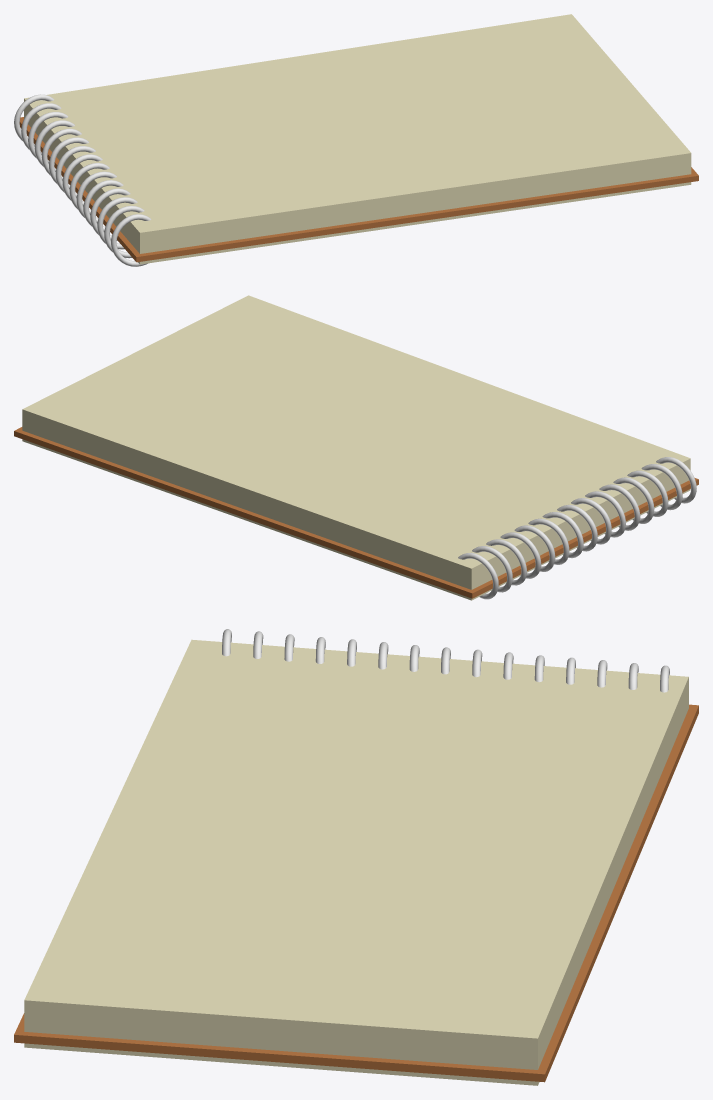
Rendered from DrawingPad.glb.
3 renders of one model, top to bottom at view 1: azimuth 30°, elevation 25°; view 2: azimuth 150°, elevation 25°; view 3: azimuth 270°, elevation 25°, orthographic. The views are drawn at different scales.
Parts seen in each view (by area): view 1: DrawingPage, DrawingSpring, DrawingCover; view 2: DrawingPage, DrawingSpring, DrawingCover; view 3: DrawingPage, DrawingCover, DrawingSpring.
Boxes of the visible parts, box(x1,y1,x2,y2) form: DrawingPage: box(24, 14, 691, 264); DrawingSpring: box(14, 94, 151, 266); DrawingCover: box(19, 117, 698, 262); DrawingPage: box(22, 295, 690, 600); DrawingSpring: box(458, 457, 696, 599); DrawingCover: box(14, 427, 698, 598); DrawingPage: box(24, 639, 688, 1085); DrawingCover: box(14, 704, 698, 1082); DrawingSpring: box(222, 629, 669, 692).
Size of the model in its own units: 11.31 by 0.8975 by 7.88.
